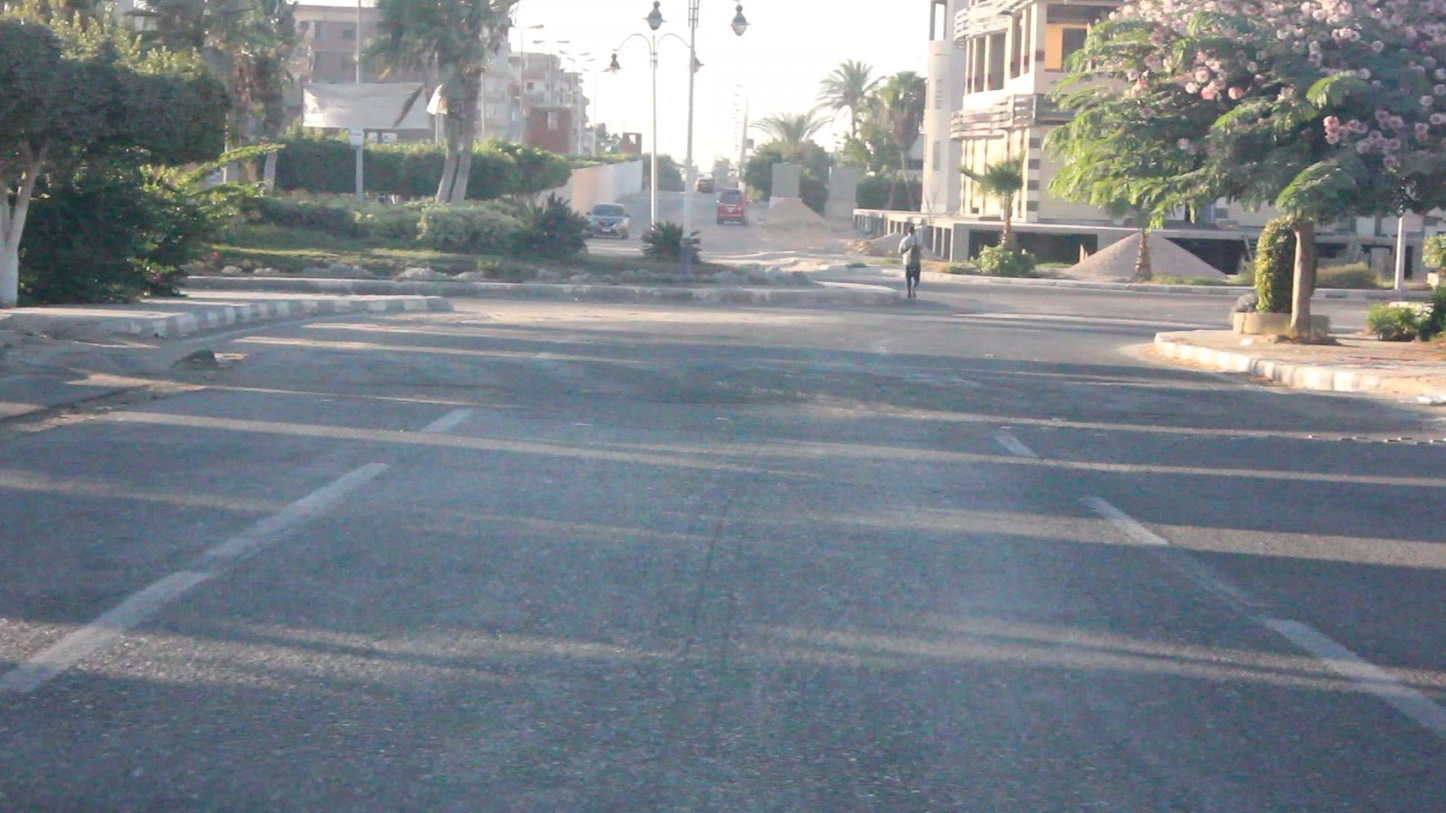Bump: (254, 343, 1318, 438)
